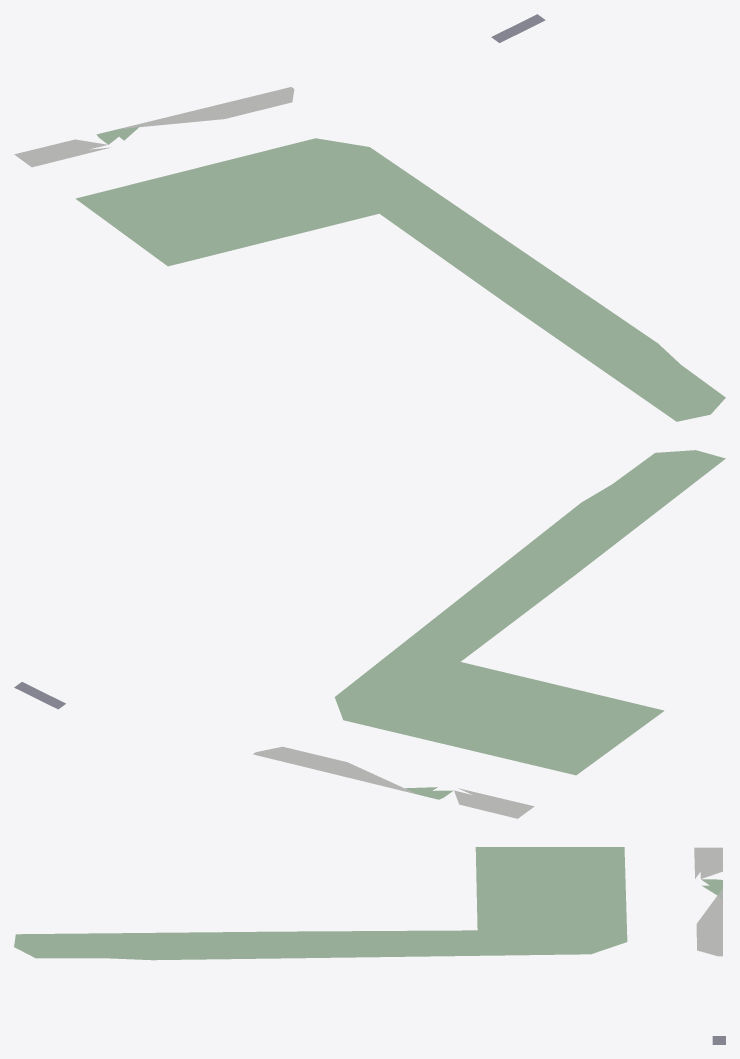
File: 122_126_mid.glb
3 renders of one model, top to bottom at view 1: azimuth 30°, elevation 25°; view 2: azimuth 150°, elevation 25°; view 3: azimuth 270°, elevation 25°, orthographic. The views are drawn at different scales.
Size of the model in its own units: 325 by 6.9 by 475.
